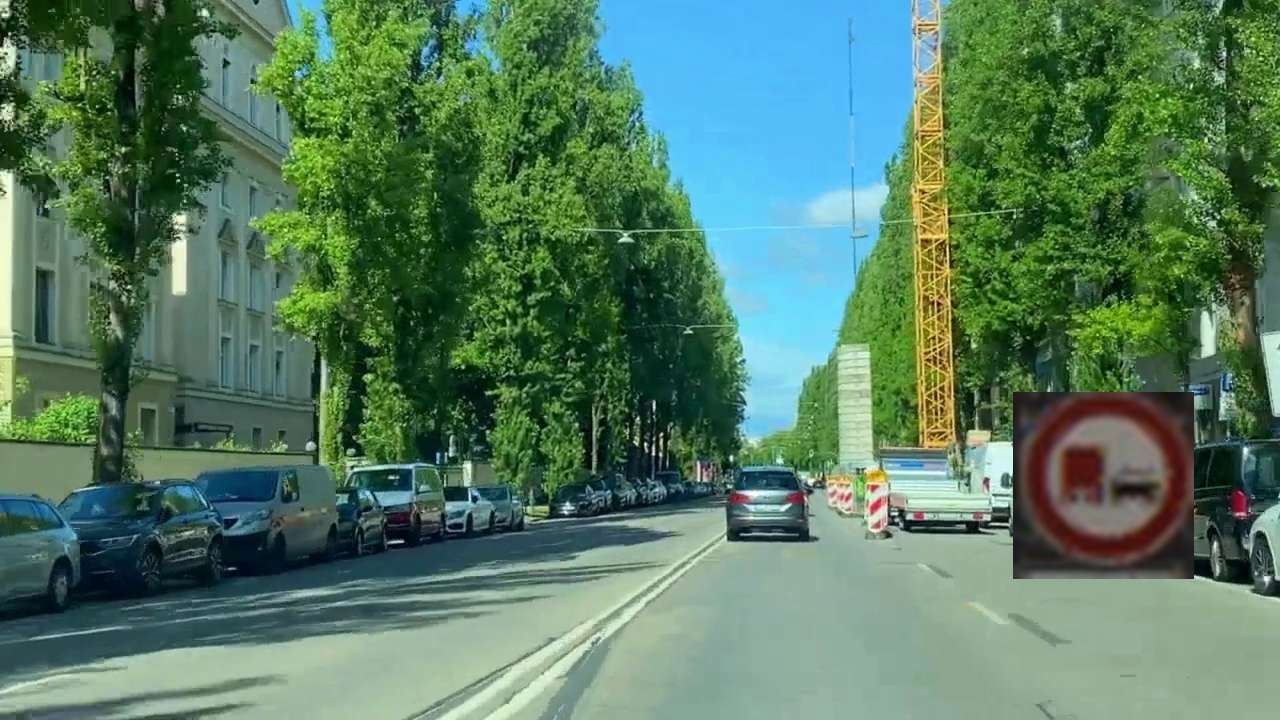No pass >3.5t: (1013, 392, 1194, 579)
